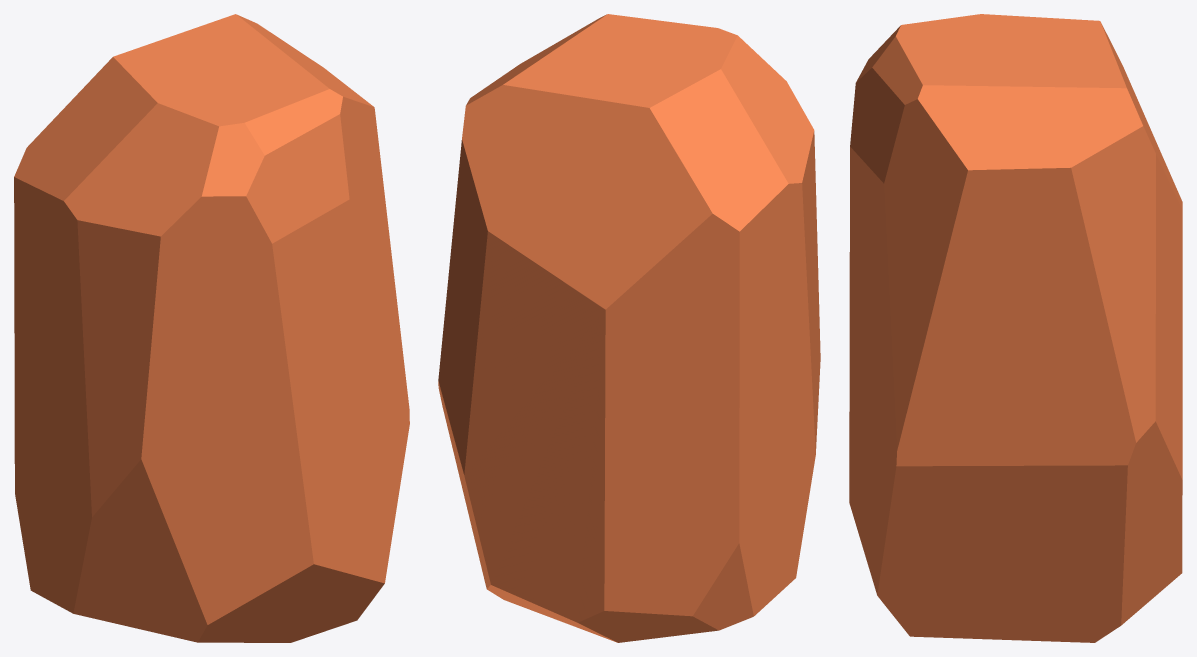
File: JumpRock_6.fbx
The picture shows the model from 3 angles, left to right: view 1: azimuth 30°, elevation 25°; view 2: azimuth 150°, elevation 25°; view 3: azimuth 270°, elevation 25°; orthographic projection. The views are drawn at different scales.
Parts seen in each view (by area): view 1: Rock_4; view 2: Rock_4; view 3: Rock_4.
Boxes of the visible parts, <box> form: Rock_4: <box>14,14,409,642</box>; Rock_4: <box>438,14,820,642</box>; Rock_4: <box>849,14,1182,642</box>.
Size of the model in its own units: 320 by 575 by 311.
